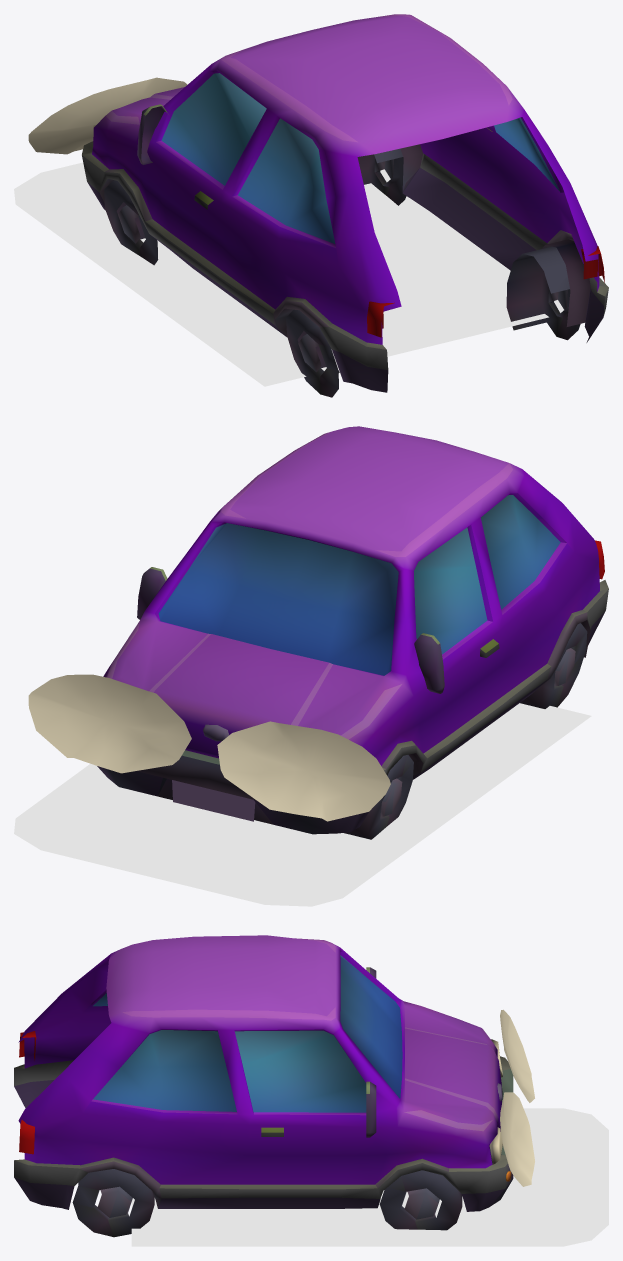
Rendered from City_Single2_Car01.fbx.
3 renders of one model, top to bottom at view 1: azimuth 30°, elevation 25°; view 2: azimuth 150°, elevation 25°; view 3: azimuth 270°, elevation 25°, orthographic. The views are drawn at different scales.
Parts seen in each view (by area): view 1: city_single2_car01, car01Shadow, carLights; view 2: city_single2_car01, car01Shadow, carLights; view 3: city_single2_car01, car01Shadow, carLights.
Part boxes in pixels (box(x1,y1,x2,y2)): city_single2_car01: box(82, 14, 608, 397); car01Shadow: box(14, 162, 563, 386); carLights: box(28, 77, 187, 154); city_single2_car01: box(97, 426, 608, 839); car01Shadow: box(14, 703, 591, 906); carLights: box(28, 674, 390, 821); city_single2_car01: box(14, 935, 513, 1237); car01Shadow: box(131, 1108, 608, 1246); carLights: box(489, 1009, 534, 1186).
Bounding box in the file's own units: 130 × 87.64 × 213.
